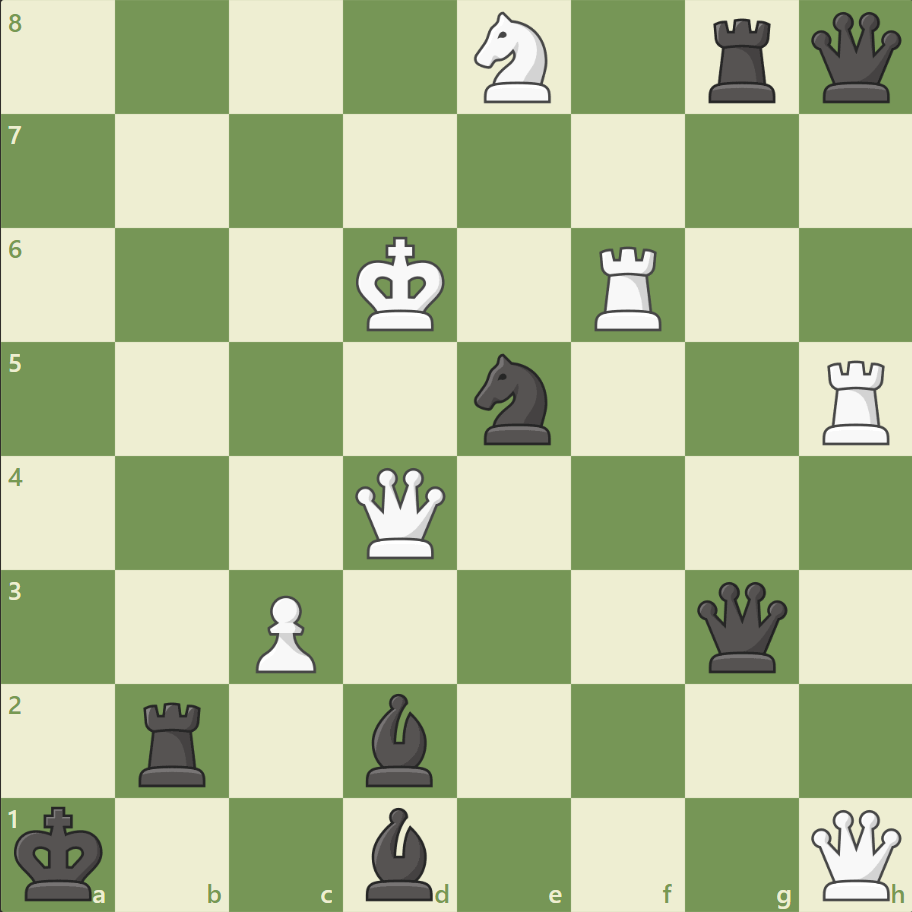K: (351, 231, 451, 339)
N: (465, 7, 562, 110)
P: (247, 586, 322, 677)
Q: (351, 463, 450, 562), (805, 804, 904, 903)
R: (587, 239, 670, 336), (814, 352, 897, 449)
b: (358, 687, 442, 790), (358, 801, 442, 904)
k: (11, 798, 111, 906)
n: (465, 348, 562, 450)
q: (691, 576, 790, 676), (805, 9, 904, 108)
r: (700, 12, 783, 109), (133, 693, 215, 790)
